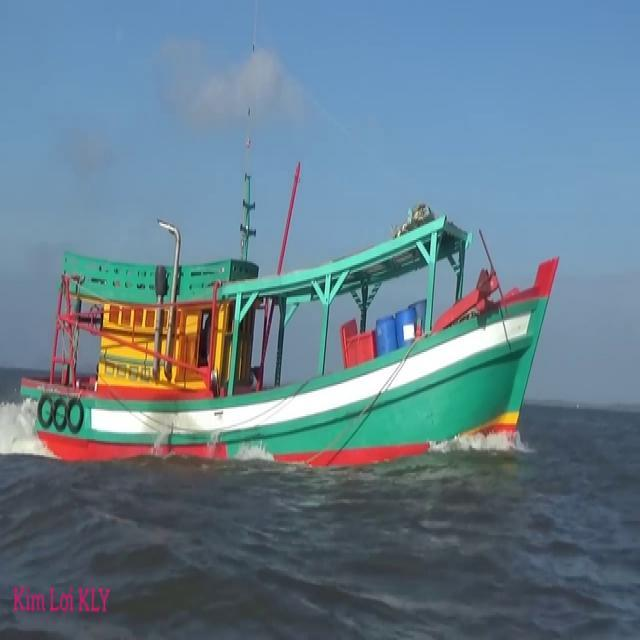Ship: (24, 201, 559, 463)
